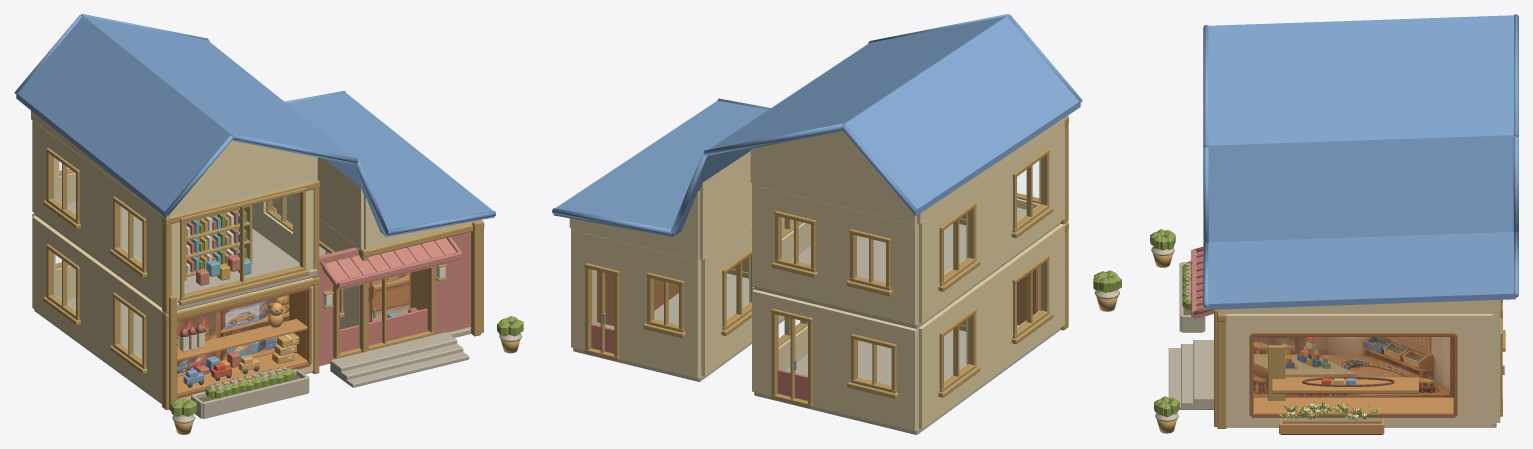
3 renders of one model, left to right at view 1: azimuth 30°, elevation 25°; view 2: azimuth 150°, elevation 25°; view 3: azimuth 270°, elevation 25°, orthographic. The views are drawn at different scales.
Visible parts, largest first — view 1: SM_17_02_曲面屋顶, SM_17_01_建筑墙体, SM_17_04_门窗楼梯, SM_17_06_景观设施, SM_17_03_木构回廊, SM_17_05_景观植物; view 2: SM_17_01_建筑墙体, SM_17_02_曲面屋顶, SM_17_04_门窗楼梯, SM_17_05_景观植物, SM_17_03_木构回廊; view 3: SM_17_02_曲面屋顶, SM_17_04_门窗楼梯, SM_17_01_建筑墙体, SM_17_05_景观植物, SM_17_06_景观设施, SM_17_03_木构回廊.
Part boxes in pixels (x1,y1,x2,y2): SM_17_02_曲面屋顶: (14,14,496,290); SM_17_01_建筑墙体: (31,110,480,403); SM_17_04_门窗楼梯: (43,148,469,398); SM_17_06_景观设施: (177,205,418,394); SM_17_03_木构回廊: (161,179,484,409); SM_17_05_景观植物: (170,316,523,434); SM_17_01_建筑墙体: (569,116,1066,434); SM_17_02_曲面屋顶: (552,14,1082,236); SM_17_04_门窗楼梯: (584,148,1053,407); SM_17_05_景观植物: (1093,270,1121,311); SM_17_03_木构回廊: (1060,116,1068,330); SM_17_02_曲面屋顶: (1191,14,1518,319); SM_17_04_门窗楼梯: (1168,299,1505,417); SM_17_01_建筑墙体: (1218,300,1500,427); SM_17_05_景观植物: (1150,229,1384,434); SM_17_06_景观设施: (1268,343,1418,400); SM_17_03_木构回廊: (1214,309,1226,428).
Size of the model in its own units: 10.75 by 8.02 by 9.4.
Materials: 39 (1 with a texture image).
